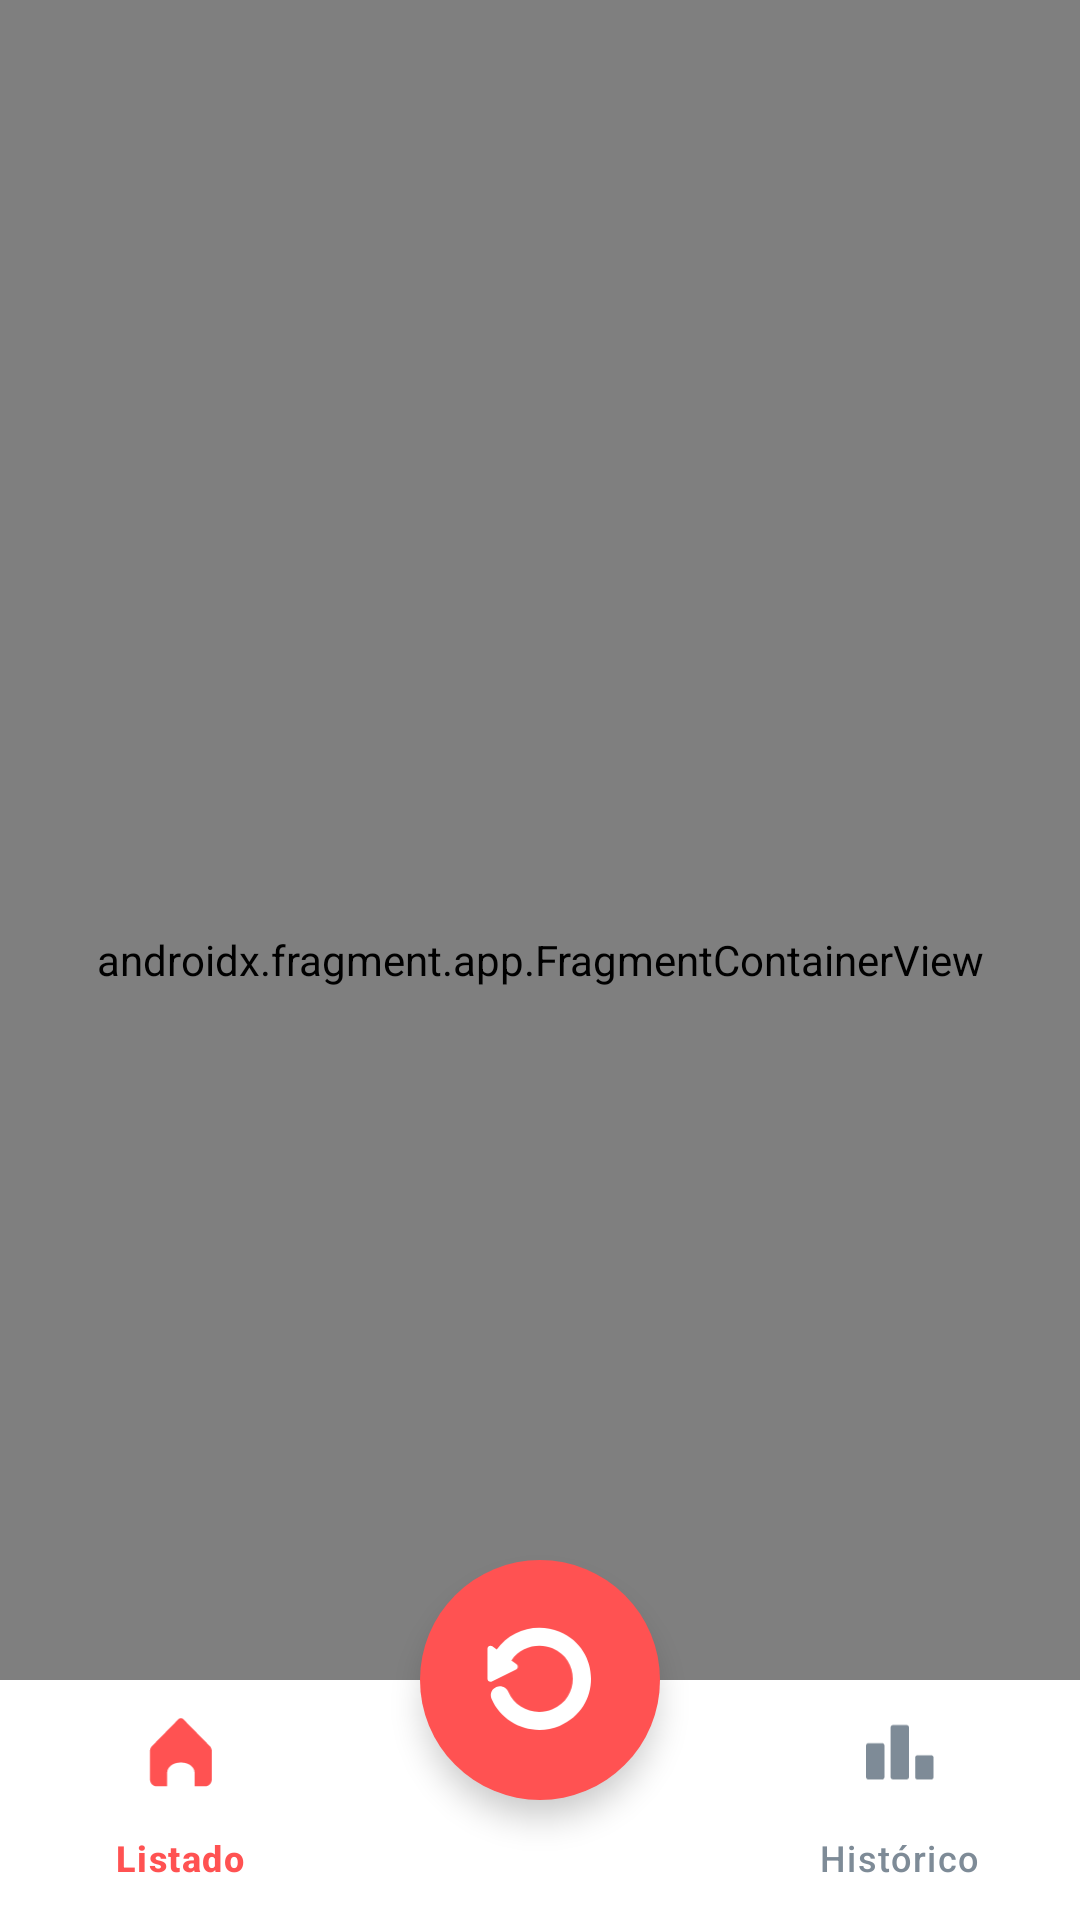

Named icons in this screenshot (1080*1920) and their centers, point (x, y):
reload: point (540, 1680)
